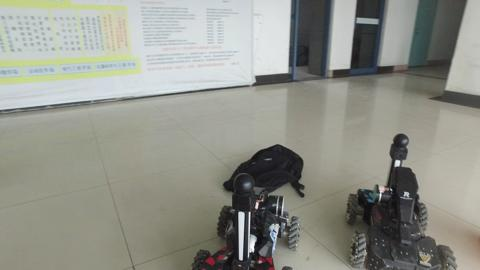chariot: (340, 129, 458, 268), (194, 172, 295, 269)
